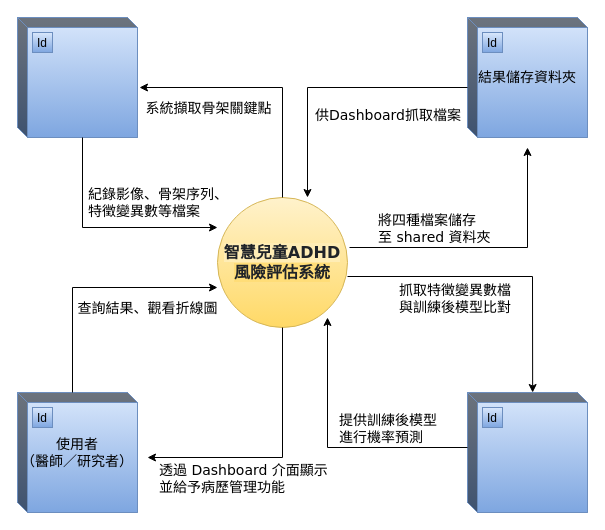
The diagram is 605 pixels wide and 530 high, and some of its shapes have lost their labels. Each missing label, with the box of its shape:
受測者（病患）: (16, 16, 138, 138)
模型資料庫 （Model）: (466, 392, 588, 512)
